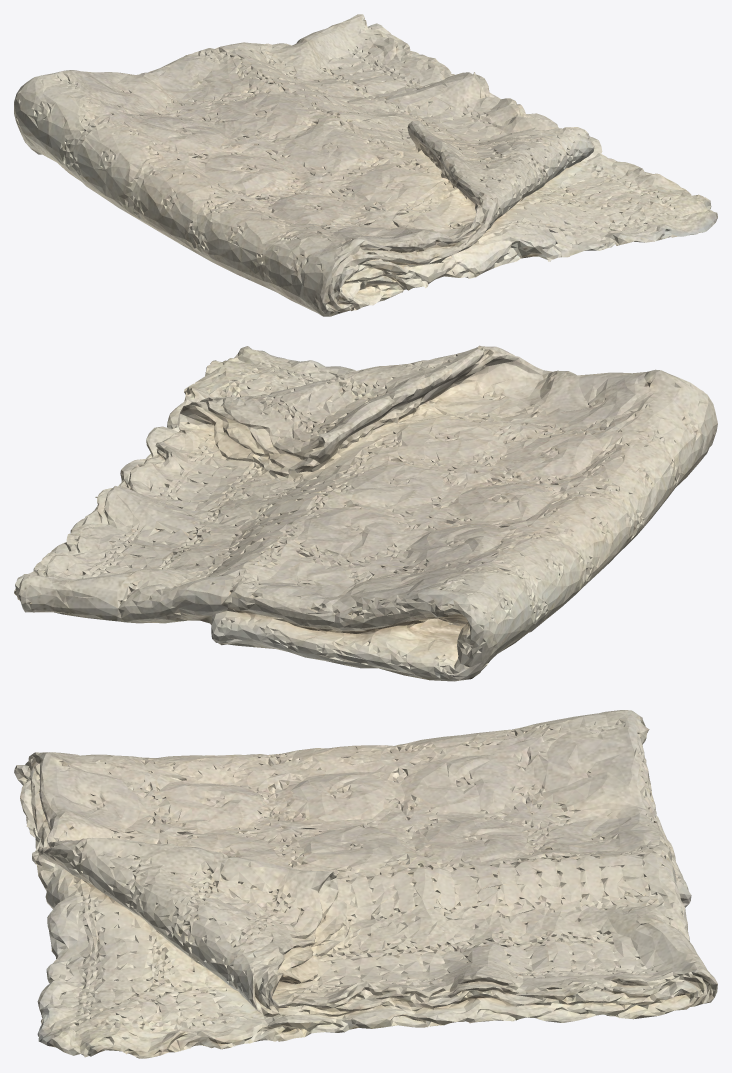
3 views of the same model, one above another, from view 1: azimuth 30°, elevation 25°; view 2: azimuth 150°, elevation 25°; view 3: azimuth 270°, elevation 25° (orthographic). The views are drawn at different scales.
Parts seen in each view (by area): view 1: Decke_25k_1k; view 2: Decke_25k_1k; view 3: Decke_25k_1k.
Boxes of the visible parts, x1,y1,x2,y2 form: Decke_25k_1k: (14,14,717,316); Decke_25k_1k: (14,345,717,681); Decke_25k_1k: (14,710,717,1058).
Size of the model in its own units: 0.522 by 0.0805 by 0.5699.
Materials: 1 (1 with a texture image).
